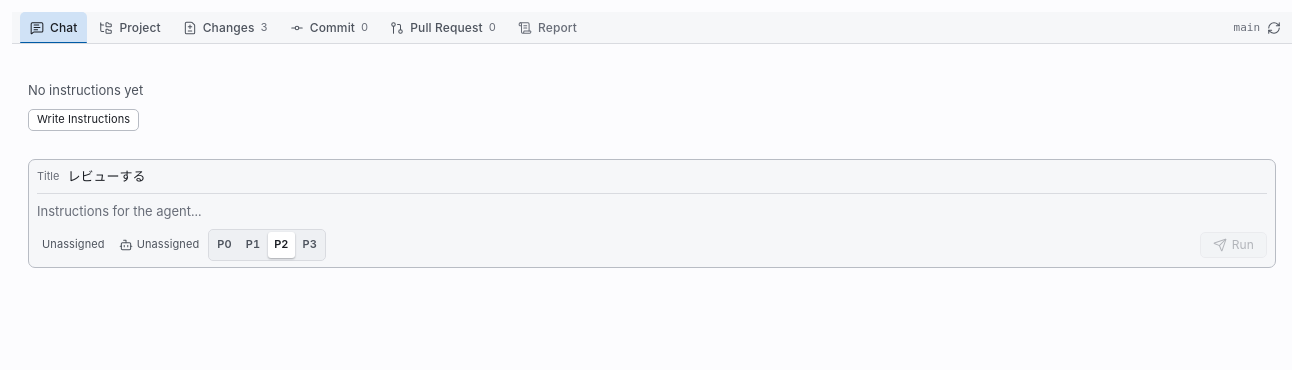
Test case: tints project and change rows alike, keeps the tint on selection, and opens deleted files from the saved diff
The image size is (1292, 370).
Click the tab "Project" at (130, 28), box [89,12,171,44]
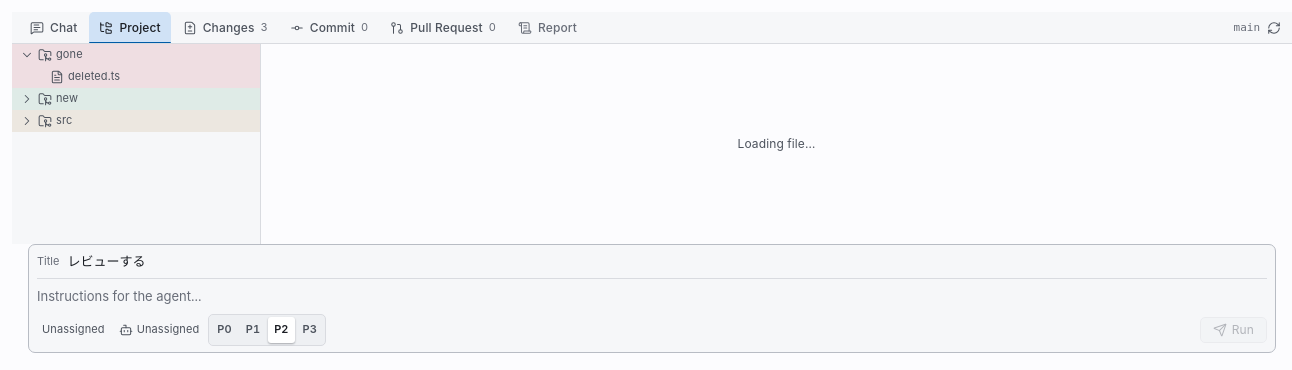
Click the list item "deleted.ts" at (136, 77), box [12,66,260,88]
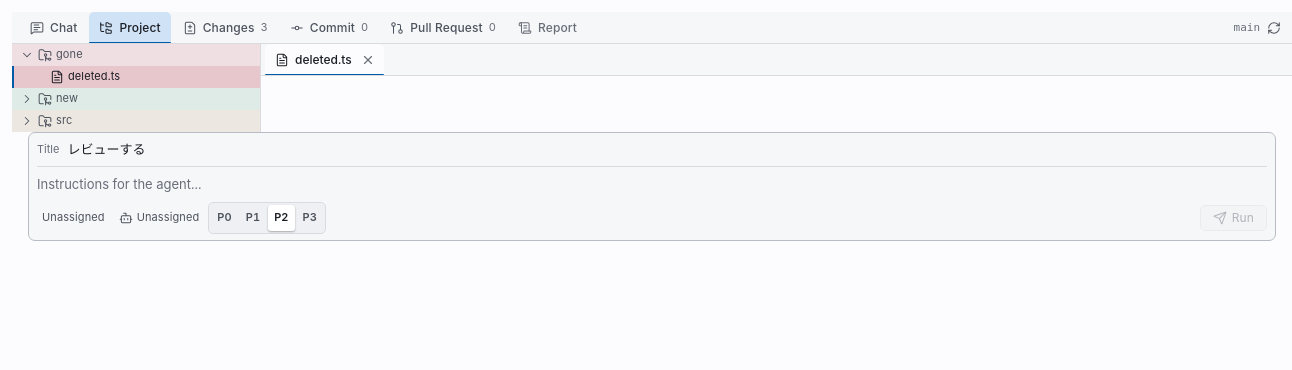
Expected: the list item "deleted.ts" is selected, [12,66,260,88]
Click the list item "new" at (136, 99), box [12,88,260,110]
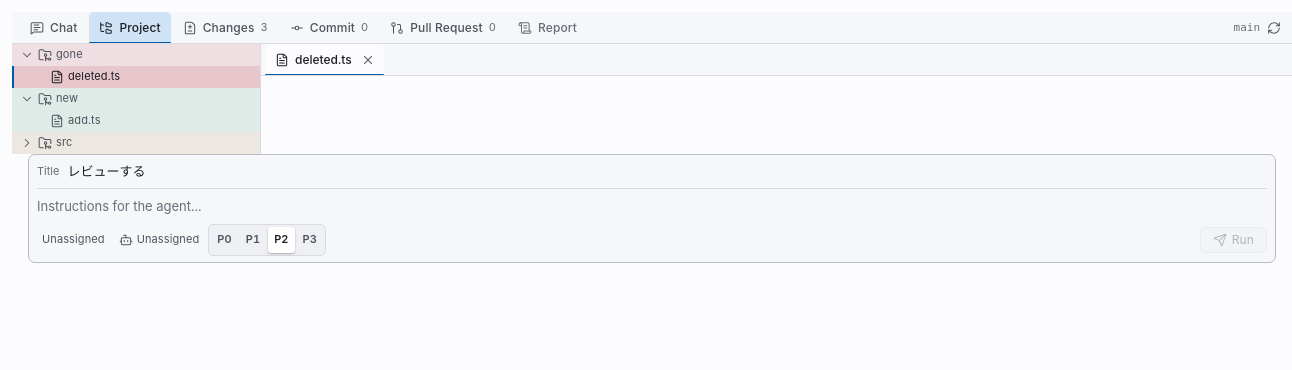
Click the list item "src" at (136, 143), box [12,132,260,154]
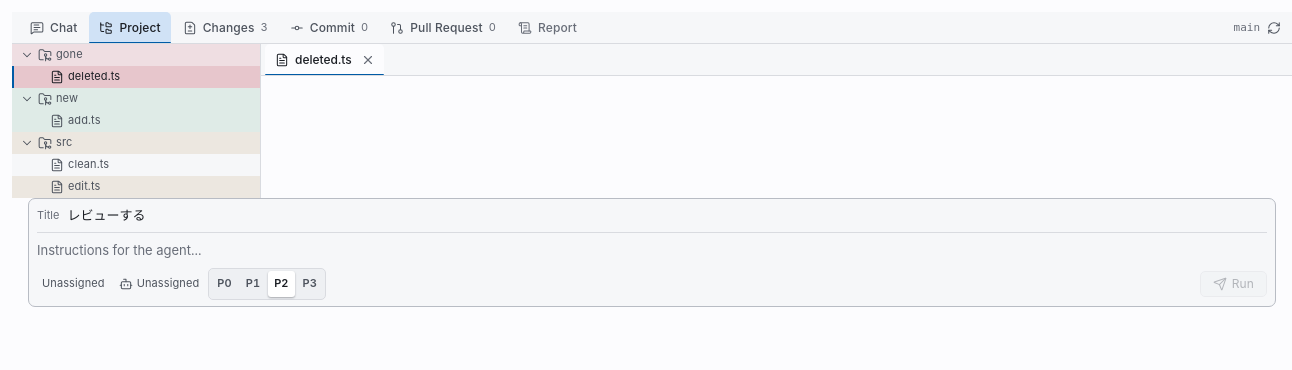
Click the tab "Changes 3" at (225, 28), box [173,12,278,44]
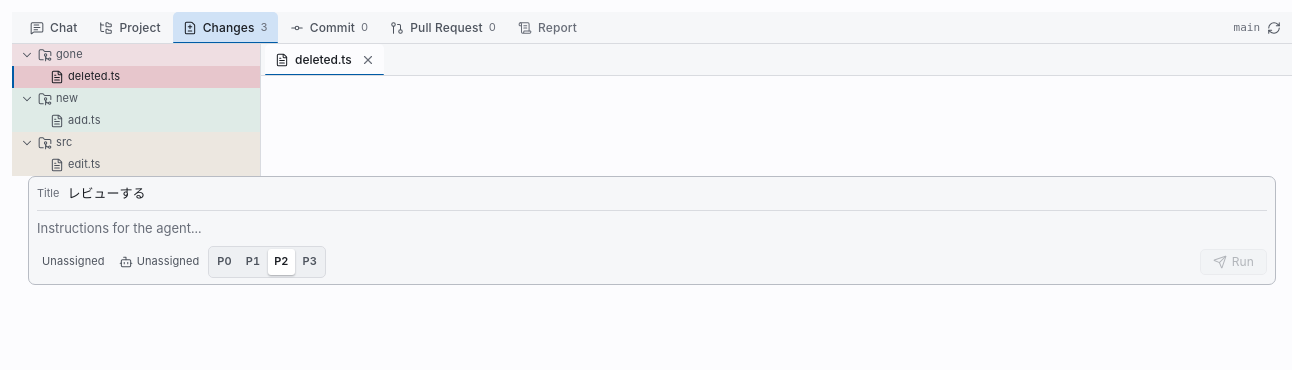
Expected: the list item "clean.ts" is gone
